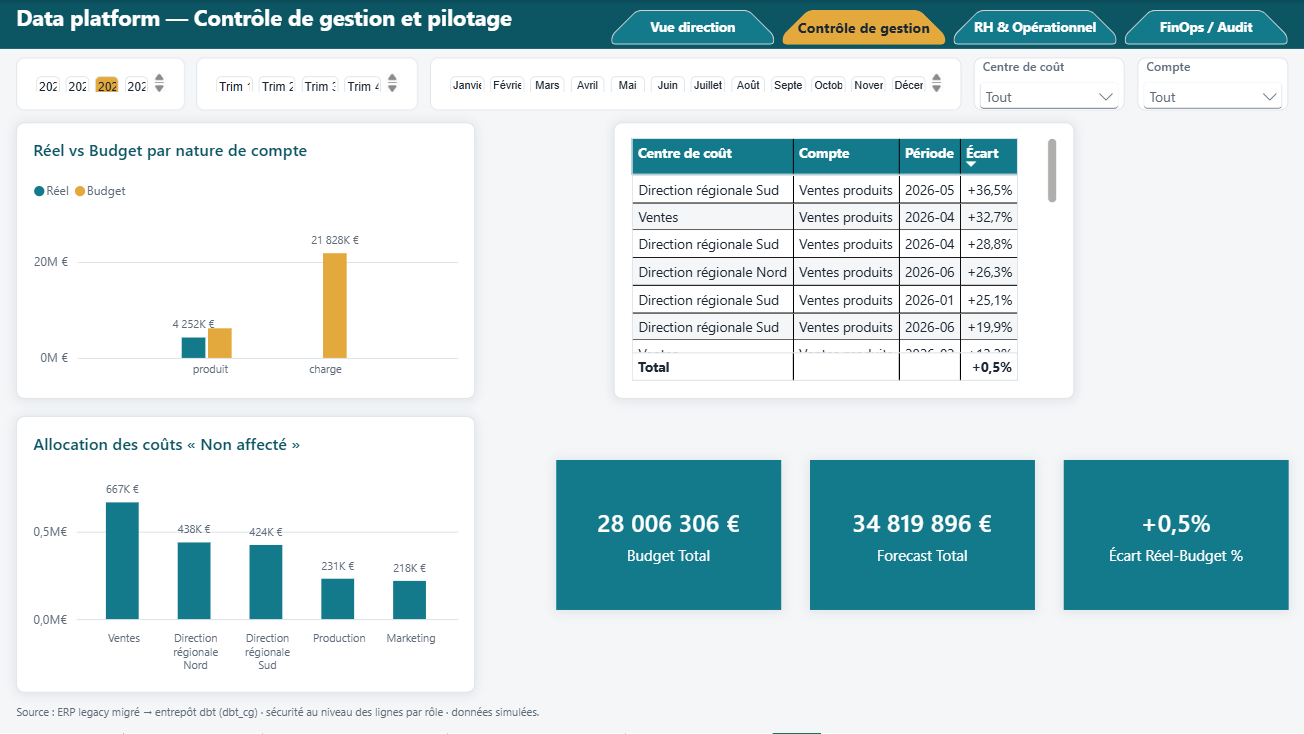

The dashboard page shown, as its layout file describes it:
{"tool":"powerbi","page":{"name":"Contrôle de gestion","canvas":[1280,720],"ordinal":1},"visuals":[{"type":"shape","box":[0,0,1280,48],"z":0},{"type":"textbox","box":[16,2,570,46],"z":100},{"type":"pageNavigator","box":[600,10,664,34],"z":200},{"type":"ChicletSlicer1448559807354","fields":{"Category":["Dim Date.Calendrier.Année"]},"box":[16,56,165.2,52],"z":1003},{"type":"ChicletSlicer1448559807354","fields":{"Category":["Dim Date.Calendrier.Trimestre"]},"box":[193.2,56,217.4,52],"z":1004},{"type":"ChicletSlicer1448559807354","fields":{"Category":["Dim Date.Calendrier.Mois"]},"box":[422.6,56,521.7,52],"z":1005},{"type":"slicer","fields":{"Values":["Dim Centre de coût.libelle"]},"box":[956.3,56,147.8,52],"z":1006},{"type":"slicer","fields":{"Values":["Dim Compte.libelle"]},"box":[1116.2,56,147.8,52],"z":1007},{"type":"textbox","box":[16,688,1248,30],"z":1400},{"type":"tableEx","fields":{"Values":["Dim Centre de coût.libelle","Dim Compte.libelle","Dim Date.annee_mois","Fct Écarts Réel-Budget.Écart Réel-Budget %"]},"box":[602.8,120,452,270.9],"z":5008},{"type":"card","fields":{"Values":["Fct Forecast.Forecast Total"]},"box":[795.1,451.2,220.4,147.4],"z":5009},{"type":"clusteredColumnChart","title":"Réel vs Budget par nature de compte","fields":{"Category":["Dim Compte.nature"],"Y":["Fct Écarts Réel-Budget.Réel (comptes rapprochés)","Fct Écarts Réel-Budget.Budget (comptes rapprochés)"]},"box":[16,120,450.6,270.9],"z":5010},{"type":"clusteredColumnChart","title":"Allocation des coûts « Non affecté »","fields":{"Category":["Dim Centre de coût.libelle"],"Y":["Fct Allocation coûts.Montant alloué"]},"box":[16,409.1,450.6,270.9],"z":5011},{"type":"card","fields":{"Values":["Fct Budget.Budget Total"]},"box":[546.6,451.2,220.4,147.4],"z":5012},{"type":"card","fields":{"Values":["Fct Écarts Réel-Budget.Écart Réel-Budget %"]},"box":[1043.6,451.2,220.4,147.4],"z":5013}]}

Visuals, with their boxes in screenshot pixels (x1, y1, x2, y2), scaled from the page's 1280x720 canvas onto the 1304x734 screenshot:
shape: bbox=(0, 0, 1303, 49)
textbox: bbox=(16, 2, 597, 49)
pageNavigator: bbox=(611, 10, 1288, 45)
ChicletSlicer1448559807354 - Dim Date.Calendrier.Année: bbox=(16, 57, 185, 110)
ChicletSlicer1448559807354 - Dim Date.Calendrier.Trimestre: bbox=(197, 57, 418, 110)
ChicletSlicer1448559807354 - Dim Date.Calendrier.Mois: bbox=(431, 57, 962, 110)
slicer - Dim Centre de coût.libelle: bbox=(974, 57, 1125, 110)
slicer - Dim Compte.libelle: bbox=(1137, 57, 1288, 110)
textbox: bbox=(16, 701, 1288, 732)
tableEx - Dim Centre de coût.libelle x Dim Compte.libelle: bbox=(614, 122, 1075, 399)
card - Fct Forecast.Forecast Total: bbox=(810, 460, 1035, 610)
"Réel vs Budget par nature de compte" clusteredColumnChart: bbox=(16, 122, 475, 399)
"Allocation des coûts « Non affecté »" clusteredColumnChart: bbox=(16, 417, 475, 693)
card - Fct Budget.Budget Total: bbox=(557, 460, 781, 610)
card - Fct Écarts Réel-Budget.Écart Réel-Budget %: bbox=(1063, 460, 1288, 610)
